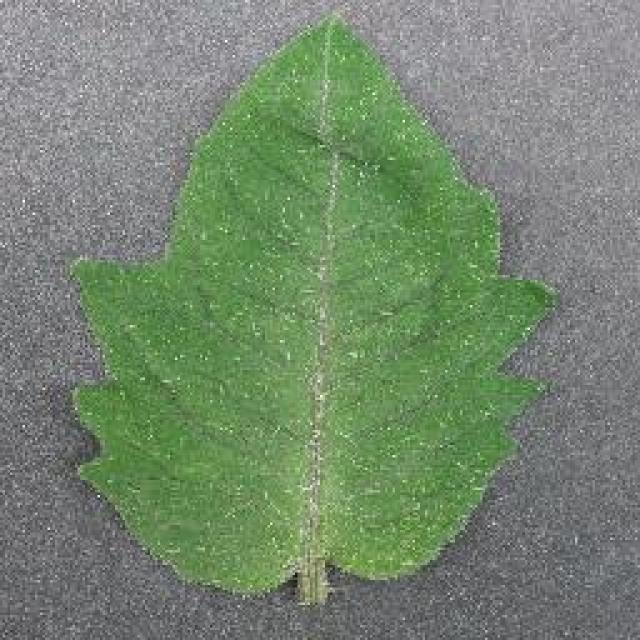healthy: (71, 18, 553, 602)
